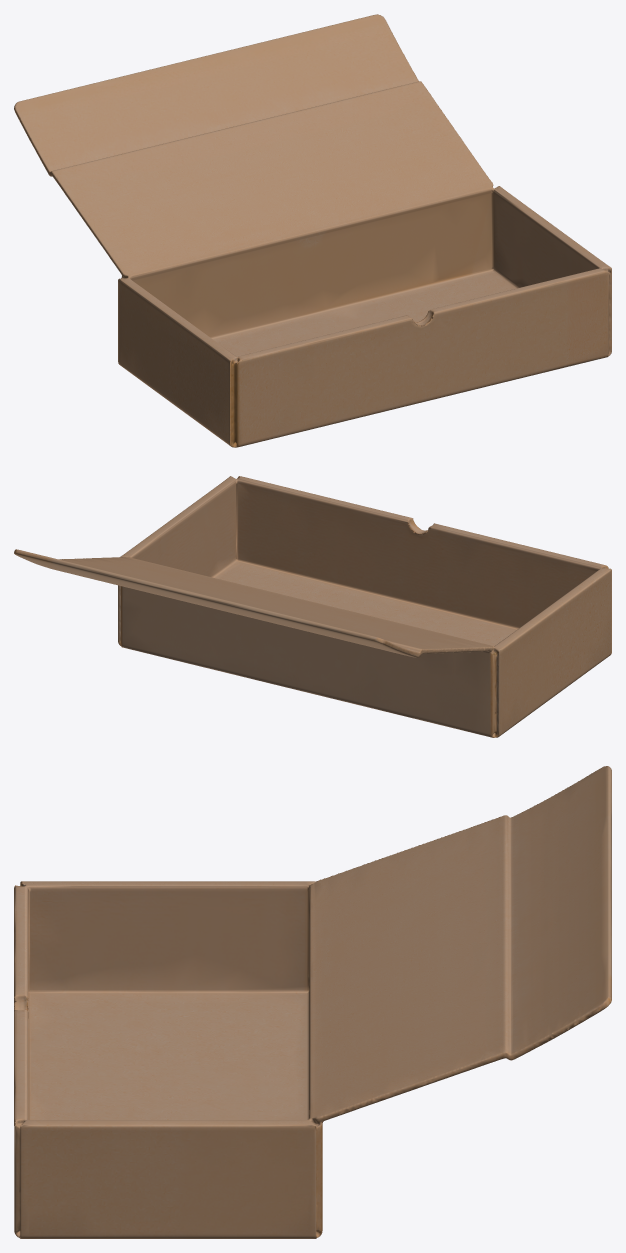
The model's file is asset03.glb.
3 views of the same model, one above another, from view 1: azimuth 30°, elevation 25°; view 2: azimuth 150°, elevation 25°; view 3: azimuth 270°, elevation 25° (orthographic). The views are drawn at different scales.
Visible parts, largest first — view 1: asset03; view 2: asset03; view 3: asset03.
Boxes of the visible parts, bbox=[...] form: asset03: bbox=[14, 14, 611, 447]; asset03: bbox=[14, 476, 611, 737]; asset03: bbox=[14, 766, 611, 1238].
Bounding box in the file's own units: 0.3875 × 0.1748 × 0.3997.
Materials: 1 (1 with a texture image).
